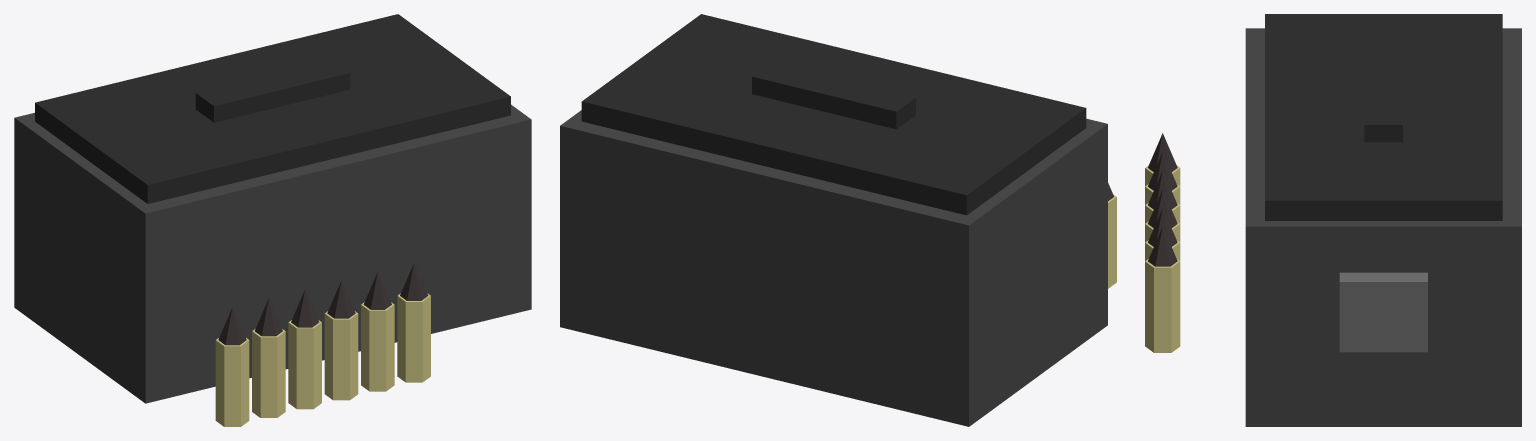
The model's file is ce_ammo_highcal_he_c.obj.
The picture shows the model from 3 angles, left to right: view 1: azimuth 30°, elevation 25°; view 2: azimuth 150°, elevation 25°; view 3: azimuth 270°, elevation 25°; orthographic projection. The views are drawn at different scales.
Parts seen in each view (by area): view 1: ce_ammo_highcal_he_c_0, ce_ammo_highcal_he_c_1, ce_ammo_highcal_he_c_2, ce_ammo_highcal_he_c_10, ce_ammo_highcal_he_c_4, ce_ammo_highcal_he_c_8, ce_ammo_highcal_he_c_12, ce_ammo_highcal_he_c_14, ce_ammo_highcal_he_c_6, ce_ammo_highcal_he_c_5, ce_ammo_highcal_he_c_7, ce_ammo_highcal_he_c_9 (+3 smaller); view 2: ce_ammo_highcal_he_c_0, ce_ammo_highcal_he_c_1, ce_ammo_highcal_he_c_2, ce_ammo_highcal_he_c_4; view 3: ce_ammo_highcal_he_c_0, ce_ammo_highcal_he_c_1, ce_ammo_highcal_he_c_3, ce_ammo_highcal_he_c_2, ce_ammo_highcal_he_c_14, ce_ammo_highcal_he_c_15, ce_ammo_highcal_he_c_9, ce_ammo_highcal_he_c_11, ce_ammo_highcal_he_c_5, ce_ammo_highcal_he_c_7, ce_ammo_highcal_he_c_13.
Part boxes in pixels (x1,y1,x2,y2): ce_ammo_highcal_he_c_0: (14, 104, 531, 403); ce_ammo_highcal_he_c_1: (35, 14, 510, 203); ce_ammo_highcal_he_c_2: (195, 59, 350, 122); ce_ammo_highcal_he_c_10: (324, 311, 358, 400); ce_ammo_highcal_he_c_4: (215, 338, 249, 426); ce_ammo_highcal_he_c_8: (288, 320, 321, 409); ce_ammo_highcal_he_c_12: (361, 302, 394, 391); ce_ammo_highcal_he_c_14: (397, 293, 430, 382); ce_ammo_highcal_he_c_6: (252, 329, 285, 417); ce_ammo_highcal_he_c_5: (218, 307, 246, 345); ce_ammo_highcal_he_c_7: (255, 298, 282, 336); ce_ammo_highcal_he_c_9: (291, 289, 319, 327); ce_ammo_highcal_he_c_0: (560, 110, 1107, 426); ce_ammo_highcal_he_c_1: (581, 14, 1086, 215); ce_ammo_highcal_he_c_2: (752, 62, 915, 129); ce_ammo_highcal_he_c_4: (1108, 194, 1116, 288); ce_ammo_highcal_he_c_0: (1245, 28, 1521, 426); ce_ammo_highcal_he_c_1: (1265, 14, 1502, 220); ce_ammo_highcal_he_c_3: (1339, 272, 1427, 352); ce_ammo_highcal_he_c_2: (1364, 55, 1402, 142); ce_ammo_highcal_he_c_14: (1145, 259, 1180, 352); ce_ammo_highcal_he_c_15: (1148, 226, 1177, 266); ce_ammo_highcal_he_c_9: (1148, 170, 1177, 209); ce_ammo_highcal_he_c_11: (1148, 189, 1177, 228); ce_ammo_highcal_he_c_5: (1148, 133, 1177, 171); ce_ammo_highcal_he_c_7: (1148, 152, 1177, 190); ce_ammo_highcal_he_c_13: (1148, 208, 1177, 246).
Bounding box in the file's own units: 0.89 × 0.475 × 0.682.
